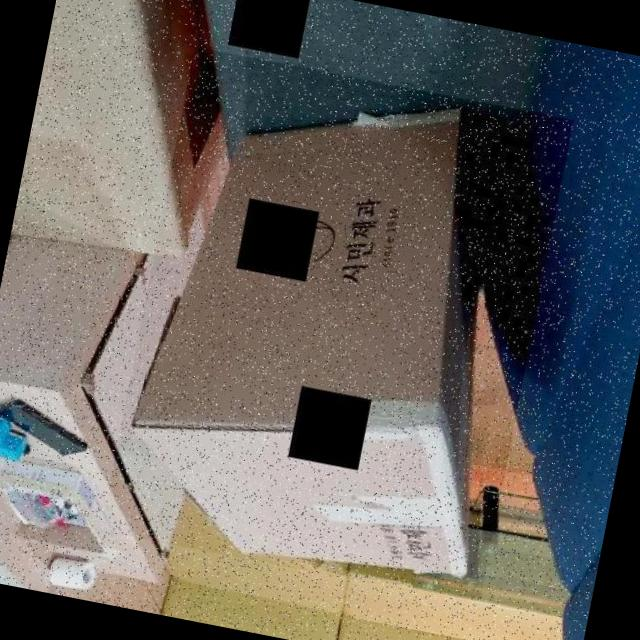box: (101, 46, 574, 605)
